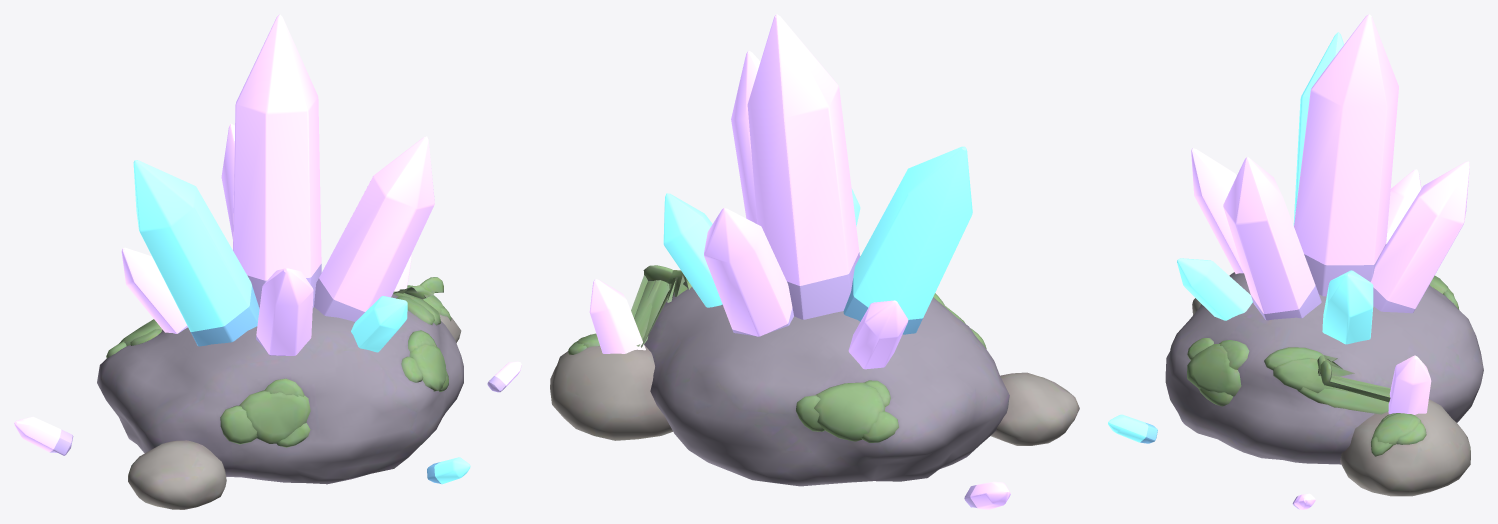
File: crystals.glb
3 renders of one model, left to right at view 1: azimuth 30°, elevation 25°; view 2: azimuth 150°, elevation 25°; view 3: azimuth 270°, elevation 25°, orthographic. The views are drawn at different scales.
Parts seen in each view (by area): view 1: crystal-cluster_crystals, crystal-cluster_body; view 2: crystal-cluster_body, crystal-cluster_crystals; view 3: crystal-cluster_crystals, crystal-cluster_body.
Part boxes in pixels (<box>): crystal-cluster_crystals: <box>14,14,521,484</box>; crystal-cluster_body: <box>97,277,463,509</box>; crystal-cluster_body: <box>550,256,1079,486</box>; crystal-cluster_crystals: <box>589,14,1010,509</box>; crystal-cluster_crystals: <box>1108,14,1469,509</box>; crystal-cluster_body: <box>1165,272,1483,496</box>.
Size of the model in its own units: 0.6668 by 0.5623 by 0.475.
Materials: 5 (1 with a texture image).
